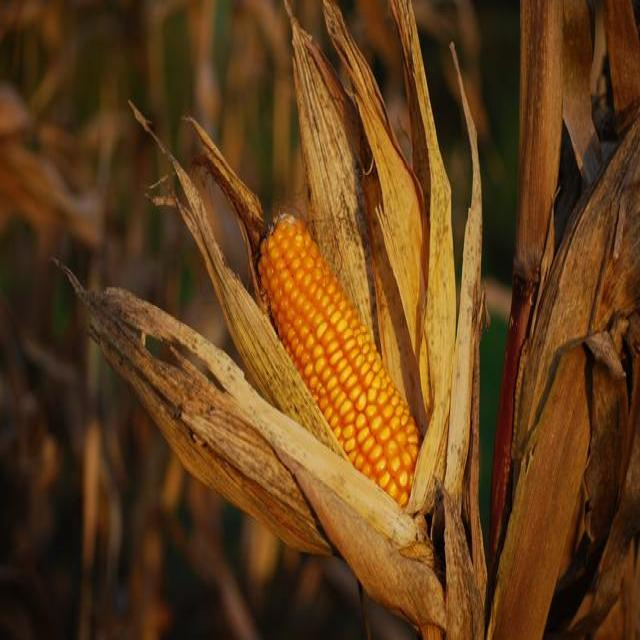Corn: (205, 126, 454, 550)
